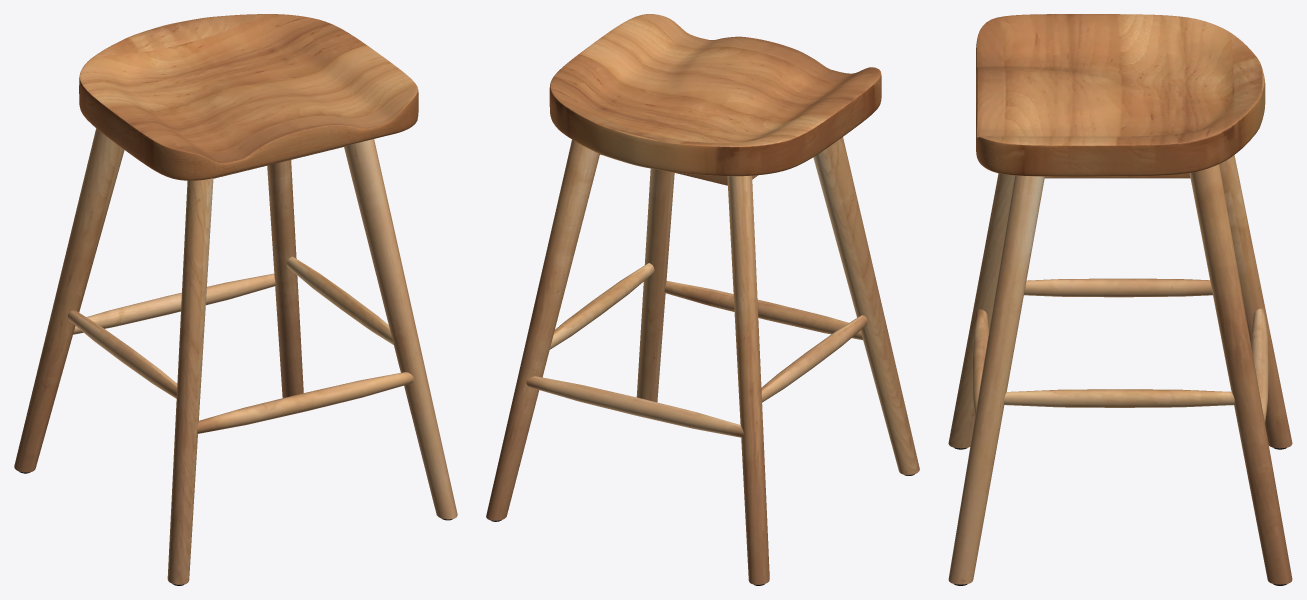
File: abo-B085565X2N.glb
The picture shows the model from 3 angles, left to right: view 1: azimuth 30°, elevation 25°; view 2: azimuth 150°, elevation 25°; view 3: azimuth 270°, elevation 25°; orthographic projection. The views are drawn at different scales.
Size of the model in its own units: 0.44 by 0.615 by 0.44.
Materials: 1 (1 with a texture image).
